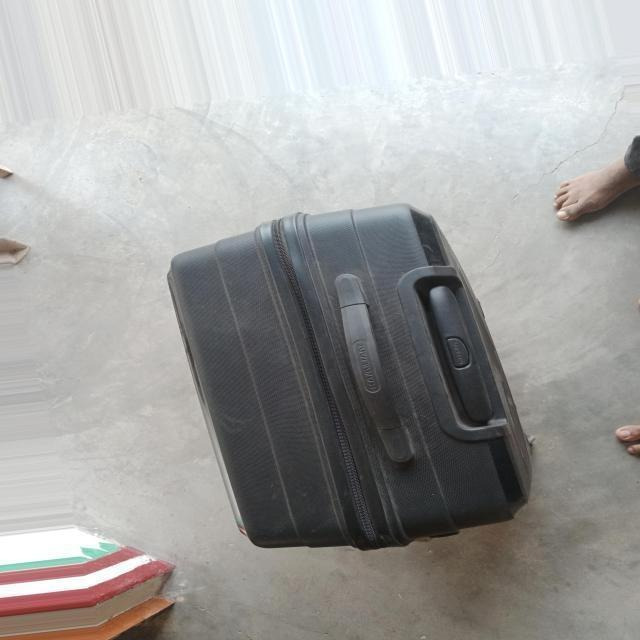Suitcase: (160, 204, 546, 558)
